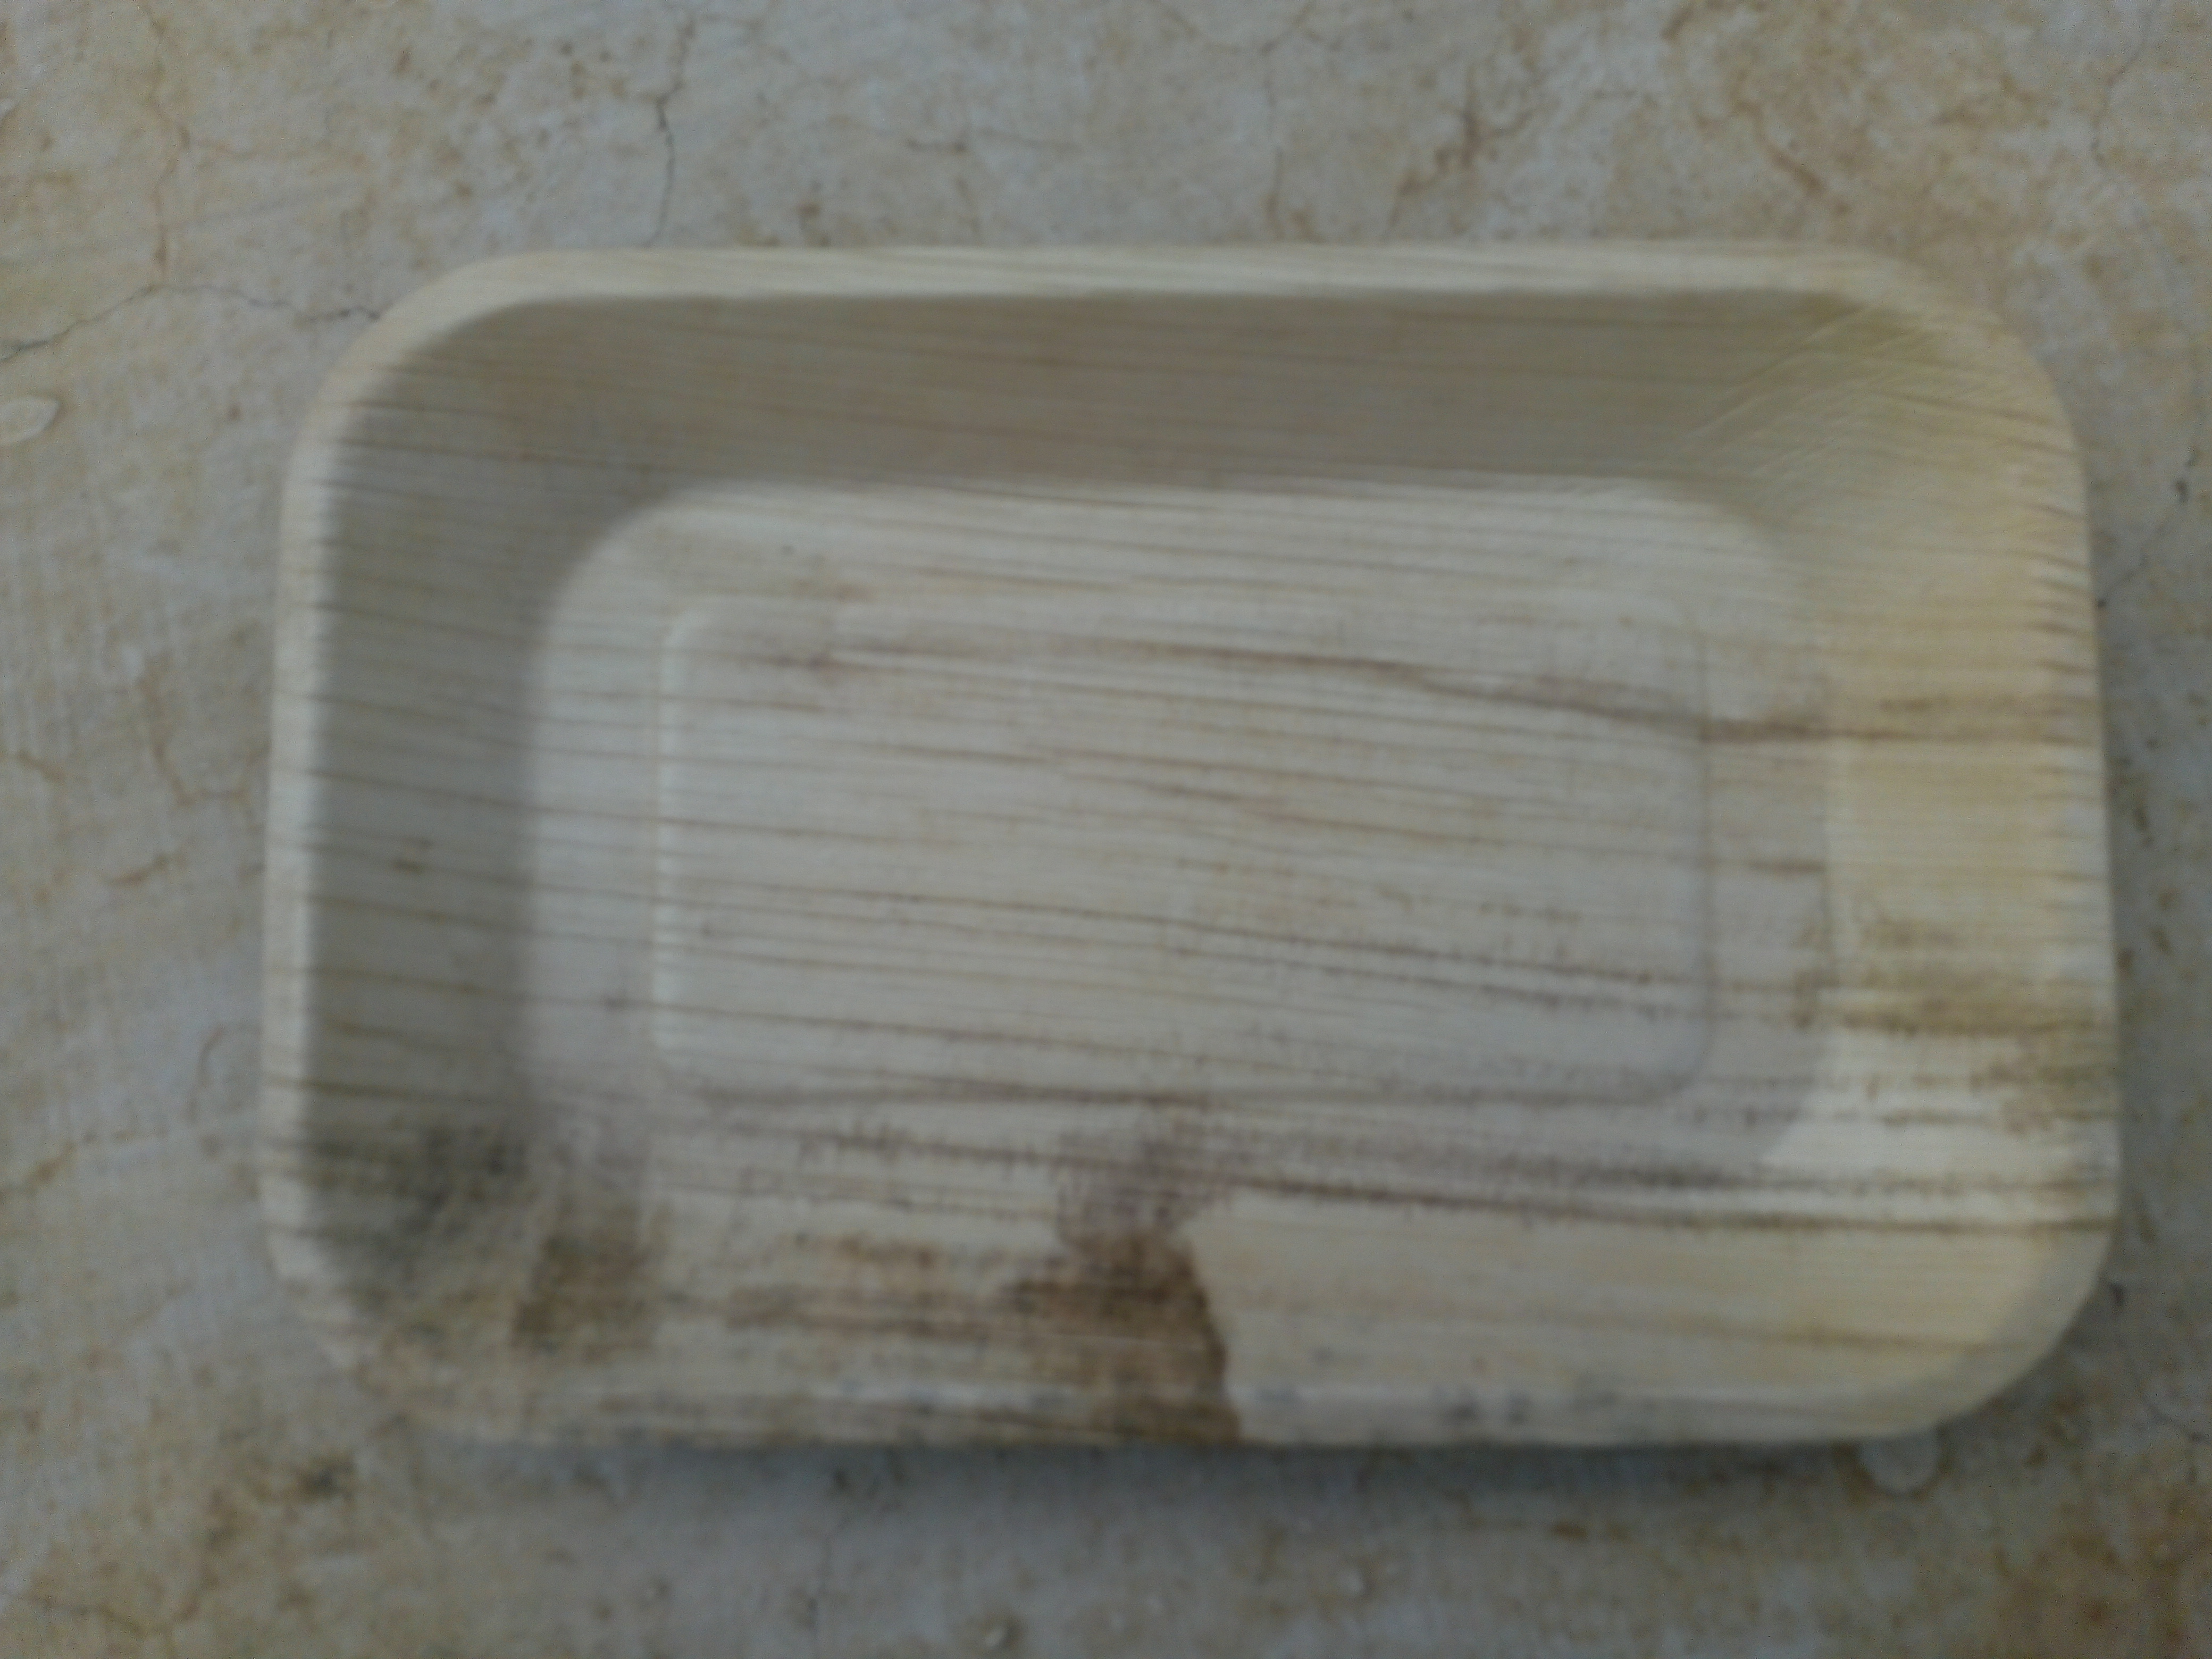areca plate: (279, 247, 2107, 1445)
